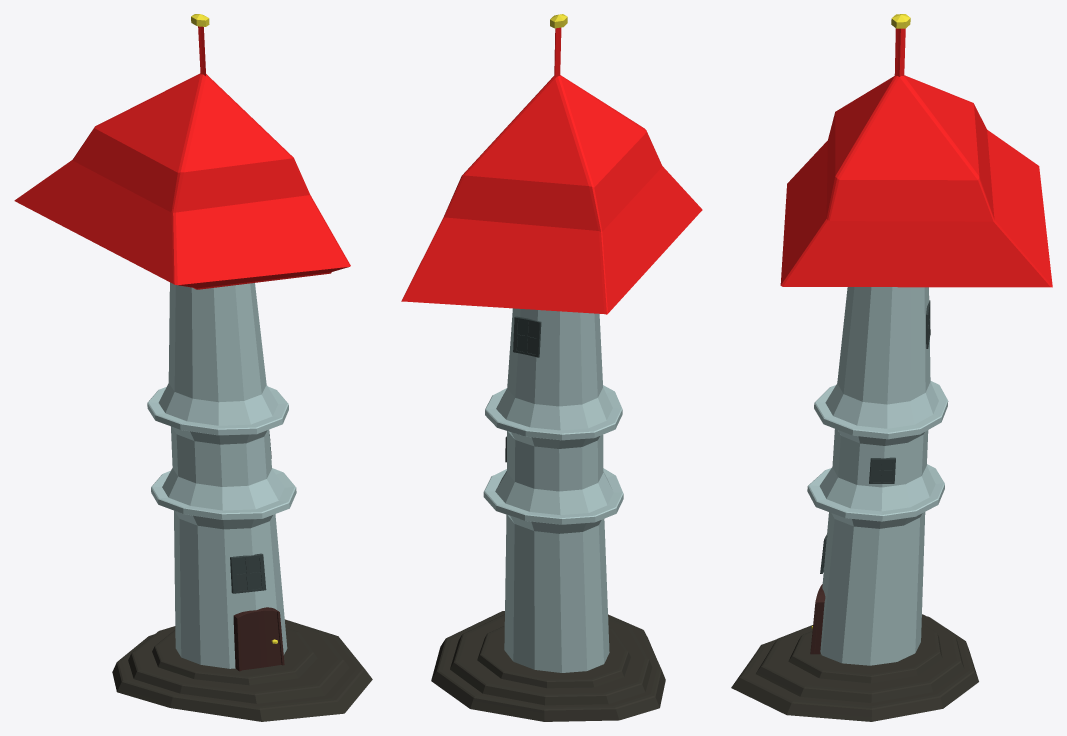
File: tower_a.fbx
3 renders of one model, left to right at view 1: azimuth 30°, elevation 25°; view 2: azimuth 150°, elevation 25°; view 3: azimuth 270°, elevation 25°, orthographic. The views are drawn at different scales.
Parts seen in each view (by area): view 1: tower_a; view 2: tower_a; view 3: tower_a.
Boxes of the visible parts, x1,y1,x2,y2 form: tower_a: (14, 14, 372, 721); tower_a: (401, 14, 702, 721); tower_a: (731, 14, 1052, 721).
Bounding box in the file's own units: 81.83 × 208 × 93.96.
